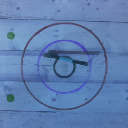Axe Tip: (48, 52, 58, 55)
